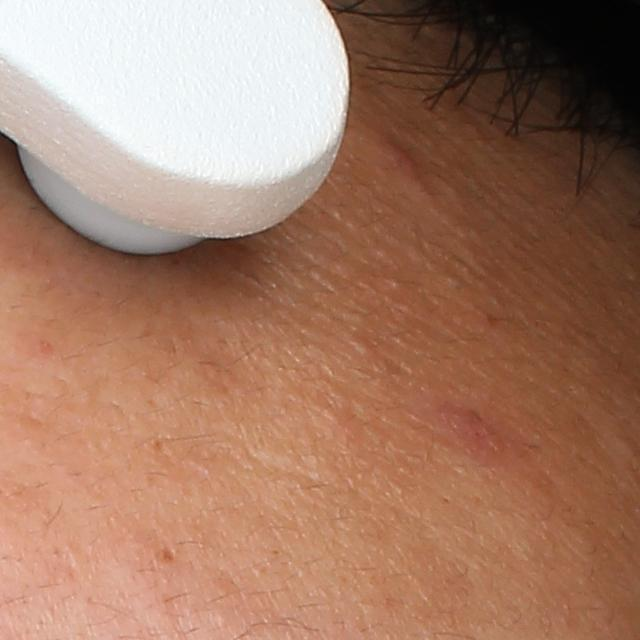comedo: (353, 337, 378, 364)
papule: (368, 135, 420, 180)
